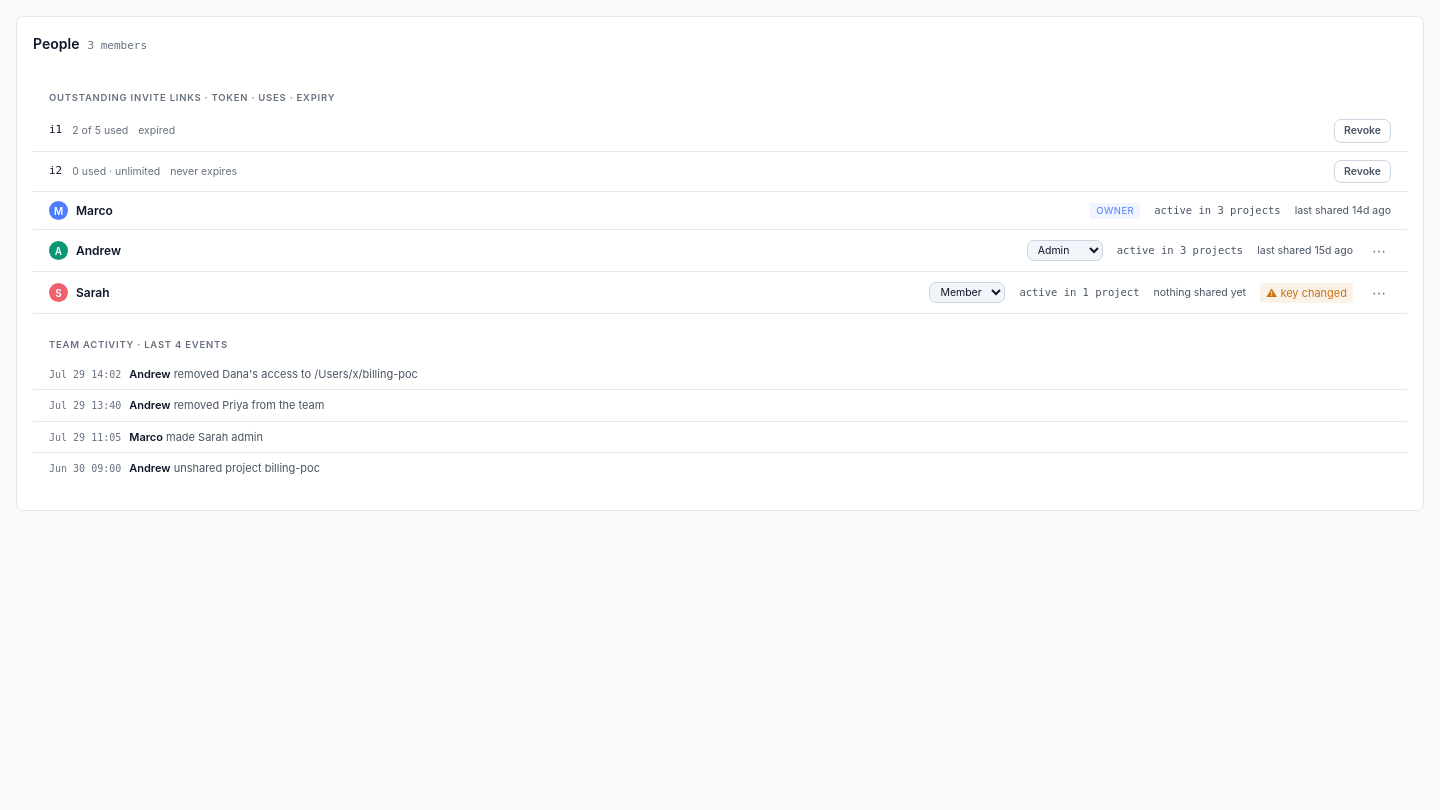
Test: MembersSection (the People section of the Team page) › removal warns that the member's per-project blocks will be lost › names the projects and what happens if they rejoin
Click the button named "more actions for Sarah": (1379, 293) x1=1367 y1=281 x2=1391 y2=304
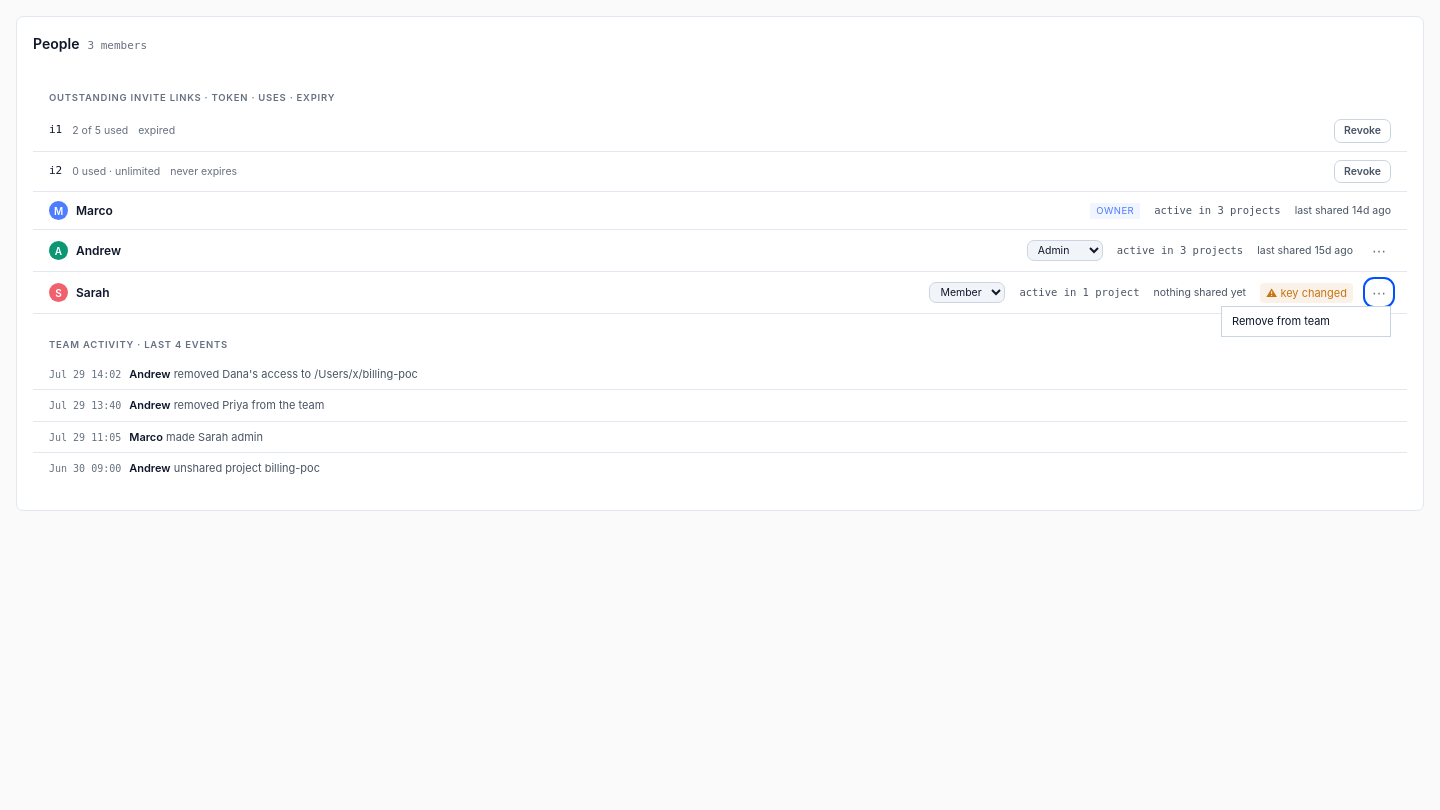
Click the menu item "Remove from team": (1306, 322) x1=1222 y1=307 x2=1390 y2=336
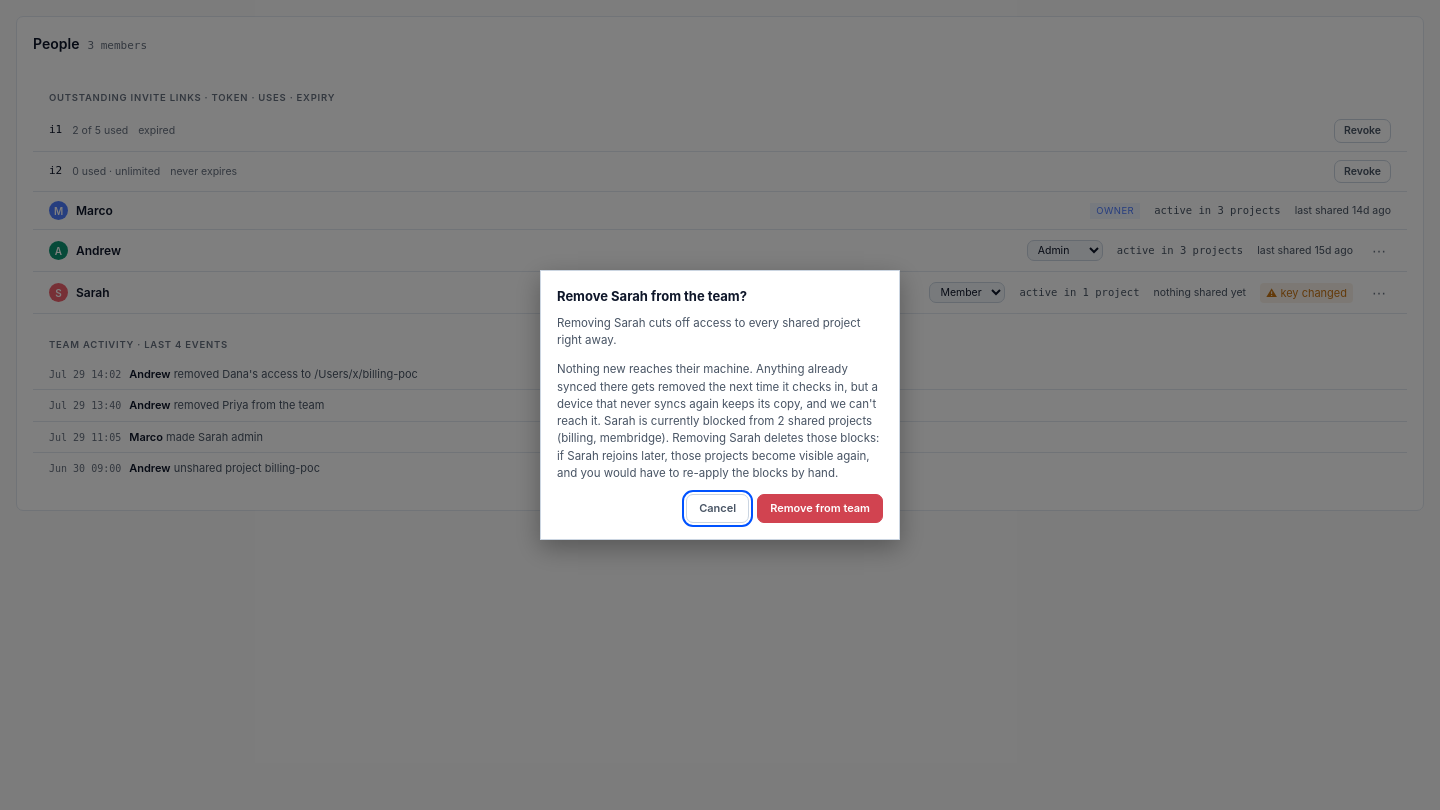
Expected: the dialog shows "billing", x1=557 y1=362 x2=879 y2=480
Expected: the dialog shows "membridge", x1=557 y1=362 x2=879 y2=480
Expected: the dialog shows "if Sarah rejoins later", x1=557 y1=362 x2=879 y2=480
